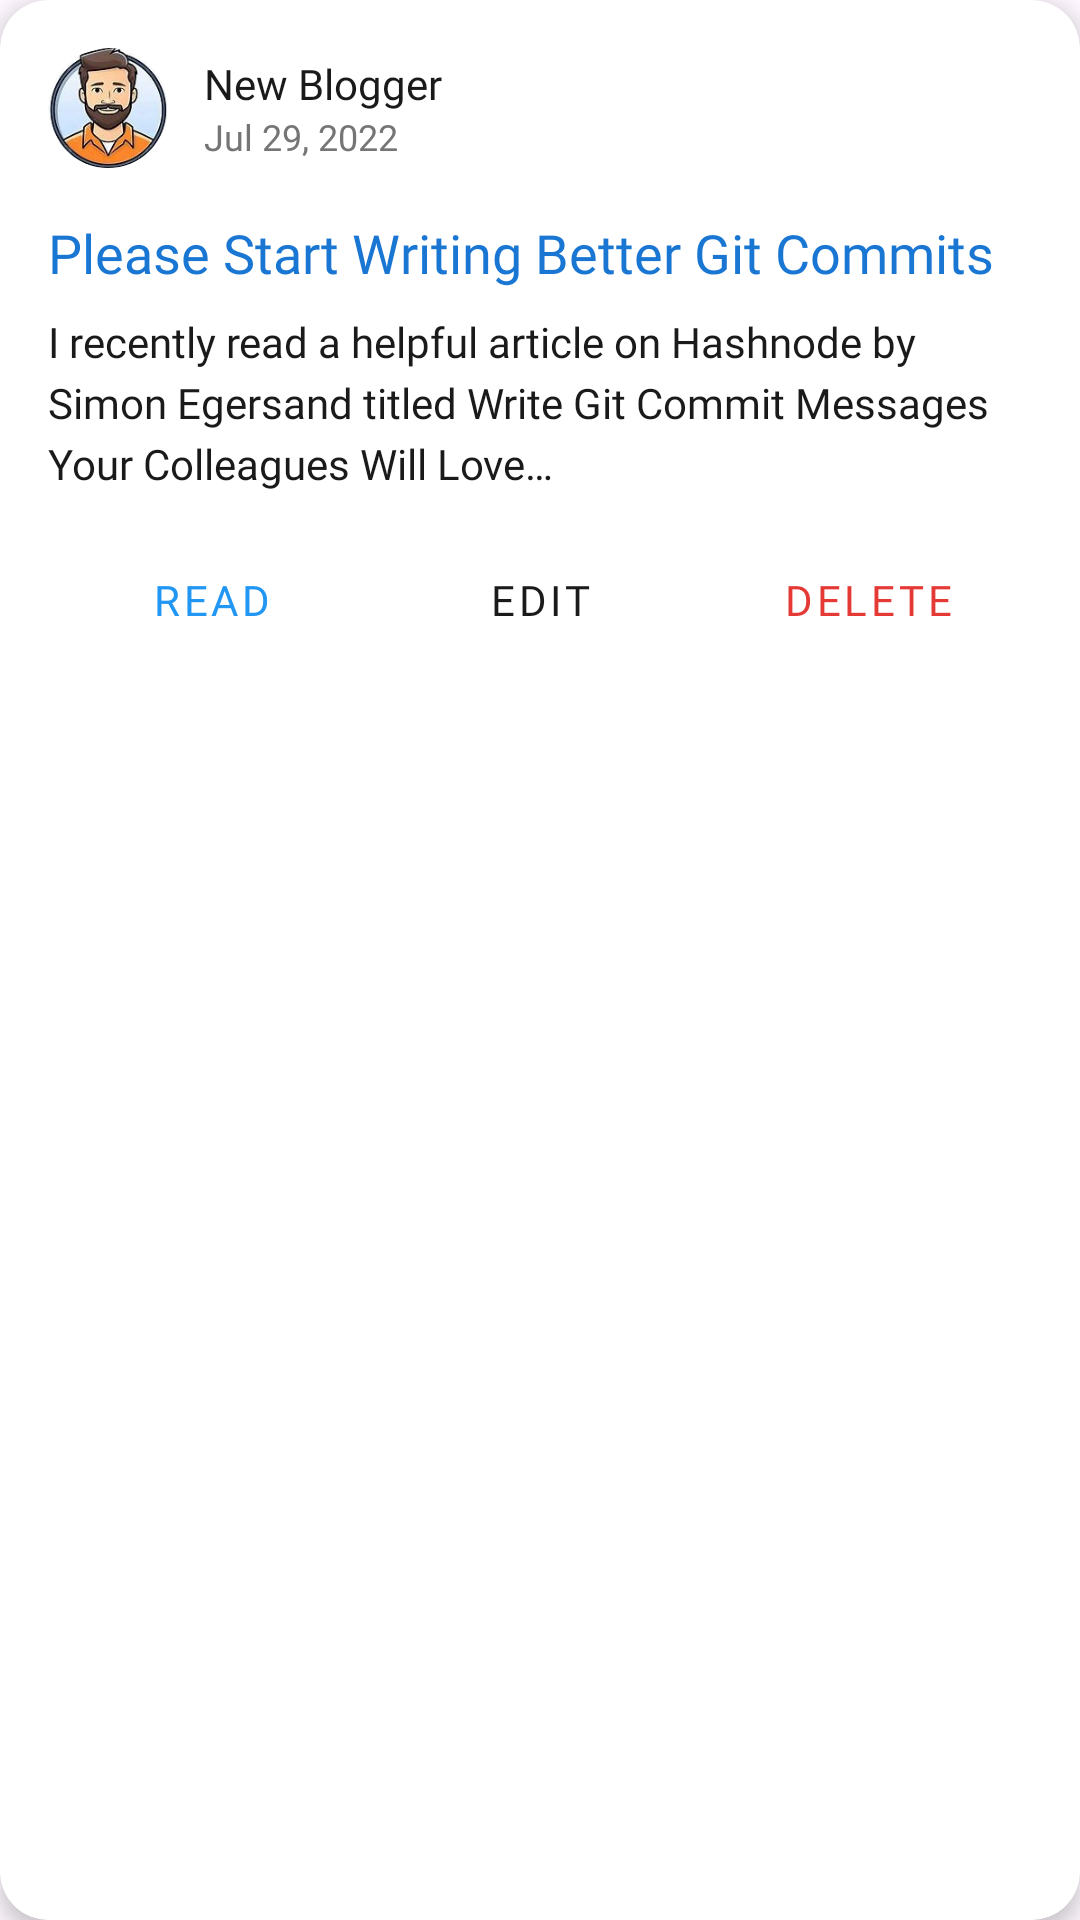

Icon bounding boxes for this 1080x1920 phone screenshot, format {"x1": x1, "y1": y1, "x2": x2, "y2": y2}:
profile: {"x1": 50, "y1": 48, "x2": 167, "y2": 168}
